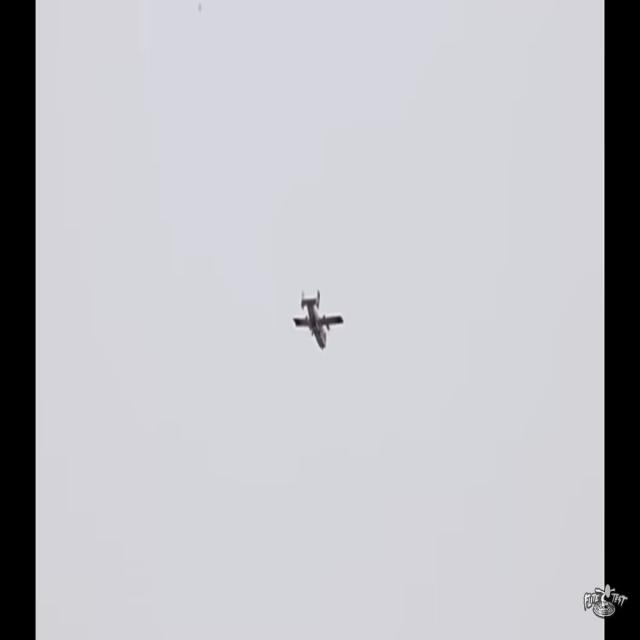iha: (293, 288, 344, 350)
